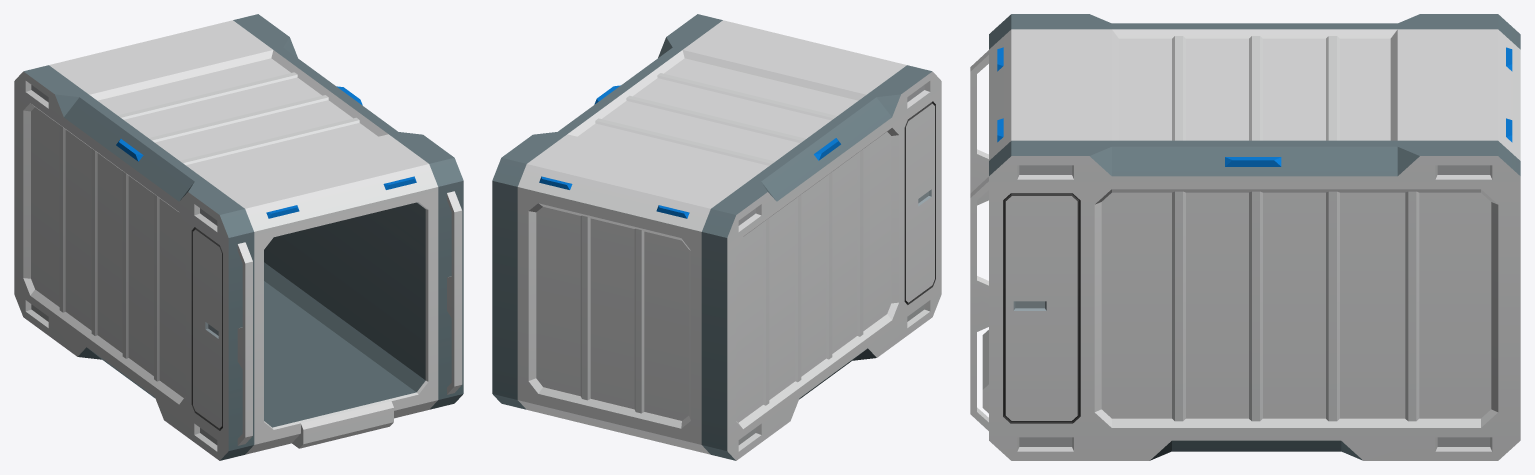
Rendered from Container_type_B_004.fbx.
3 renders of one model, left to right at view 1: azimuth 30°, elevation 25°; view 2: azimuth 150°, elevation 25°; view 3: azimuth 270°, elevation 25°, orthographic. The views are drawn at different scales.
Parts seen in each view (by area): view 1: Container_type_B_004; view 2: Container_type_B_004; view 3: Container_type_B_004.
Part boxes in pixels (x1=…): Container_type_B_004: x1=14, y1=14, x2=463, y2=460; Container_type_B_004: x1=492, y1=14, x2=941, y2=460; Container_type_B_004: x1=970, y1=14, x2=1520, y2=460.
Size of the model in its own units: 240 by 393 by 240.
